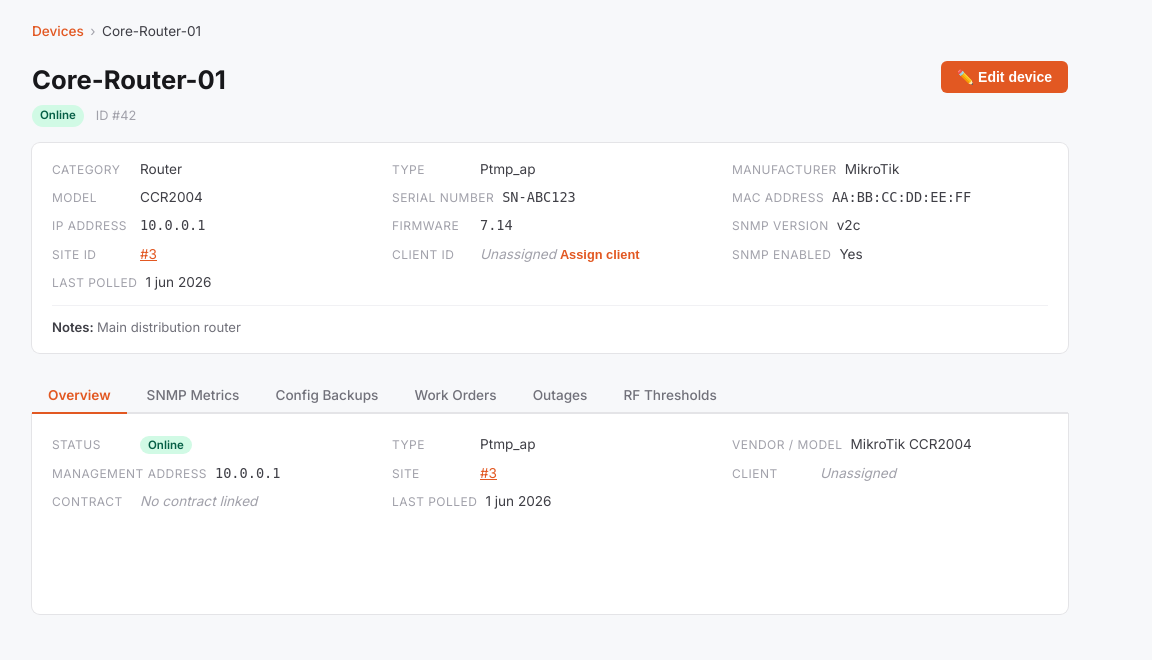
it: DeviceDetail page › RF Thresholds tab (migration 388) › no existing sector: pre-fills blank inputs and Save POSTs a new sector config with device_id
Expected: the heading "Core-Router-01" is shown, [32,61,226,100]
Click the button "RF Thresholds" at (670, 396), box [607,377,733,414]
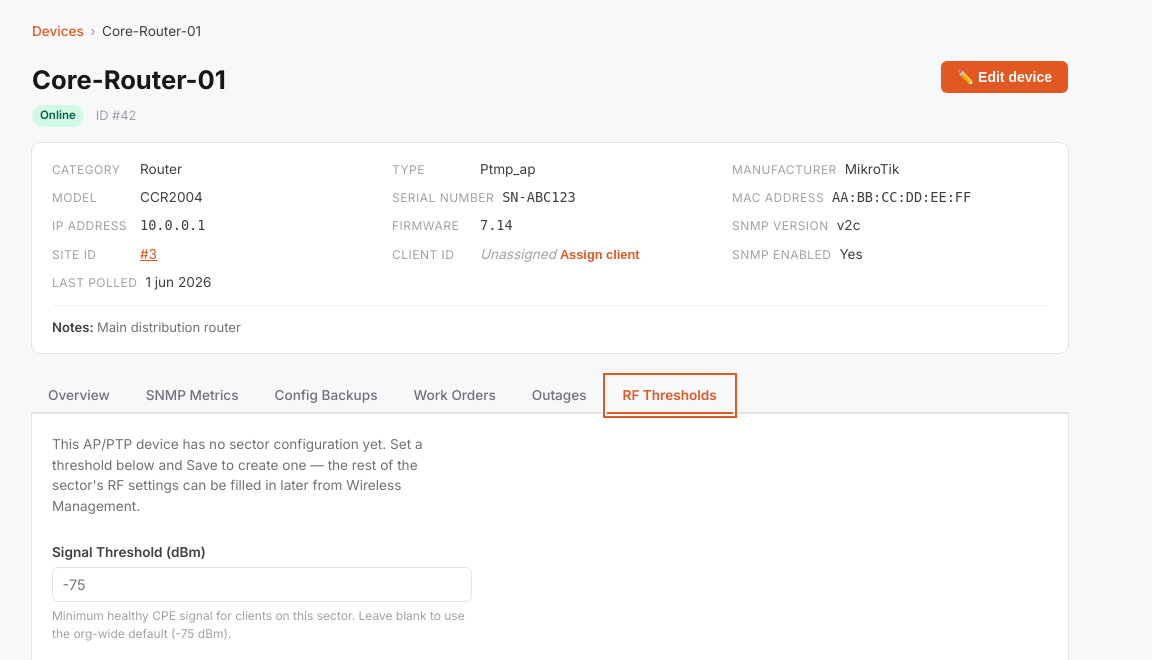
Expected: the number field with placeholder "-75" is empty
Type "-60" into the number field with placeholder "-75" at (262, 584), box [52,567,472,602]
(page scrolled)
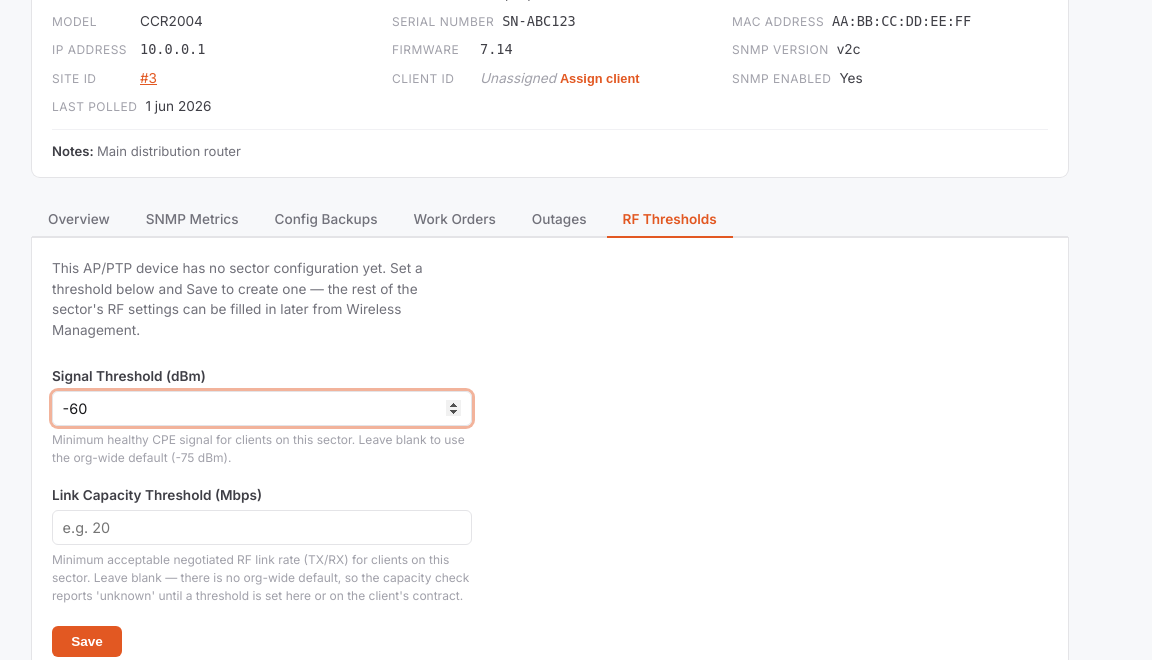
Type "25" into the number field with placeholder "e.g. 20" at (262, 528), box [52,510,472,545]
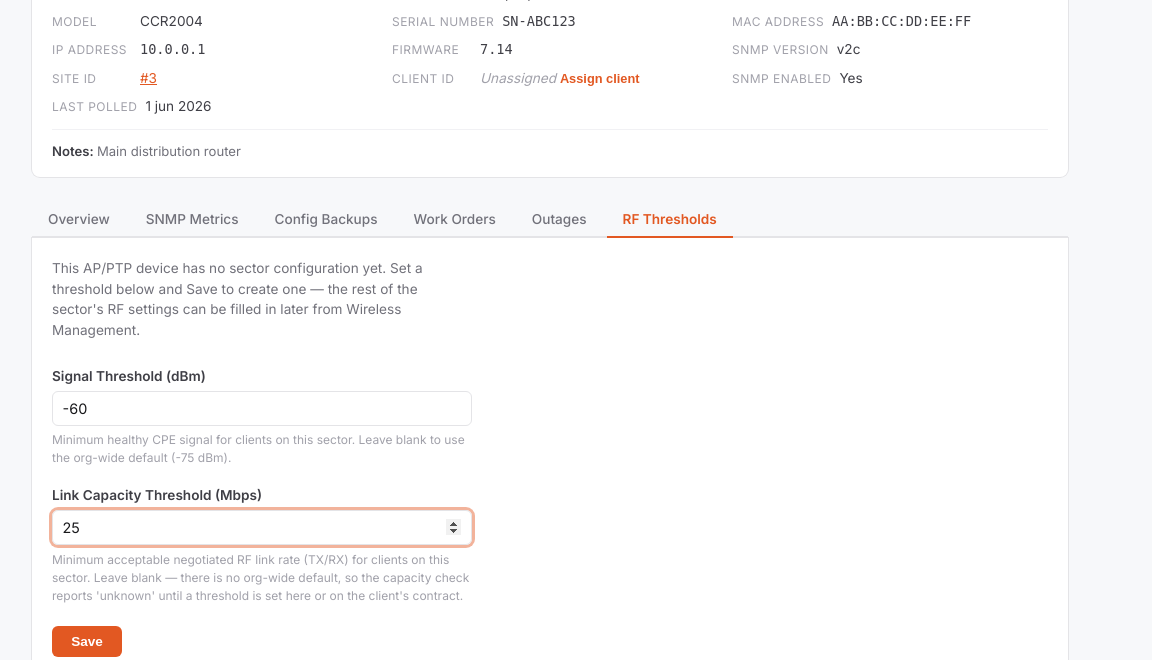
Click the button "Save" at (87, 642), box [52,626,122,657]
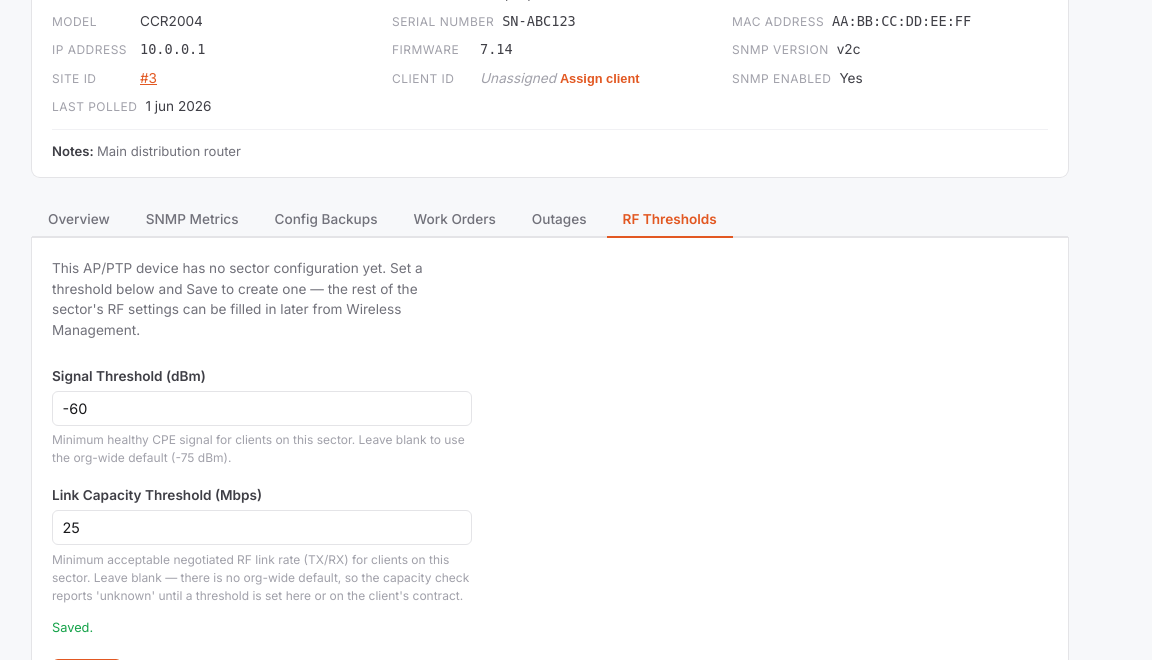
Expected: the text "Saved." is shown, [52,620,93,635]
